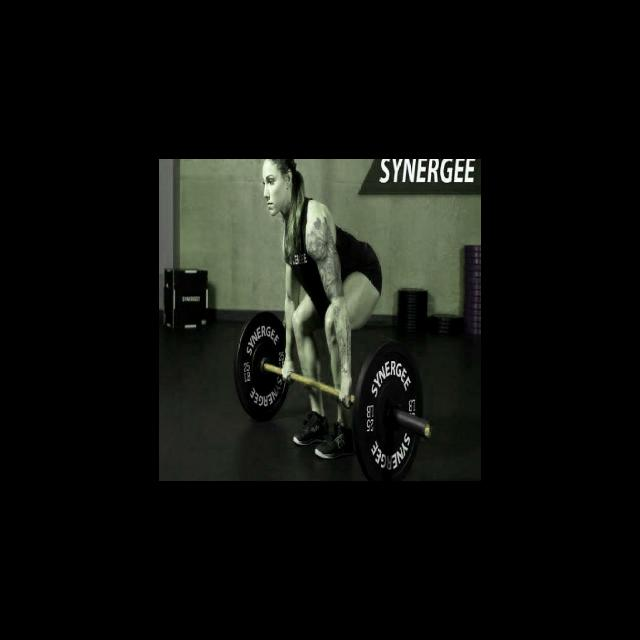barbell: (352, 338, 433, 480)
